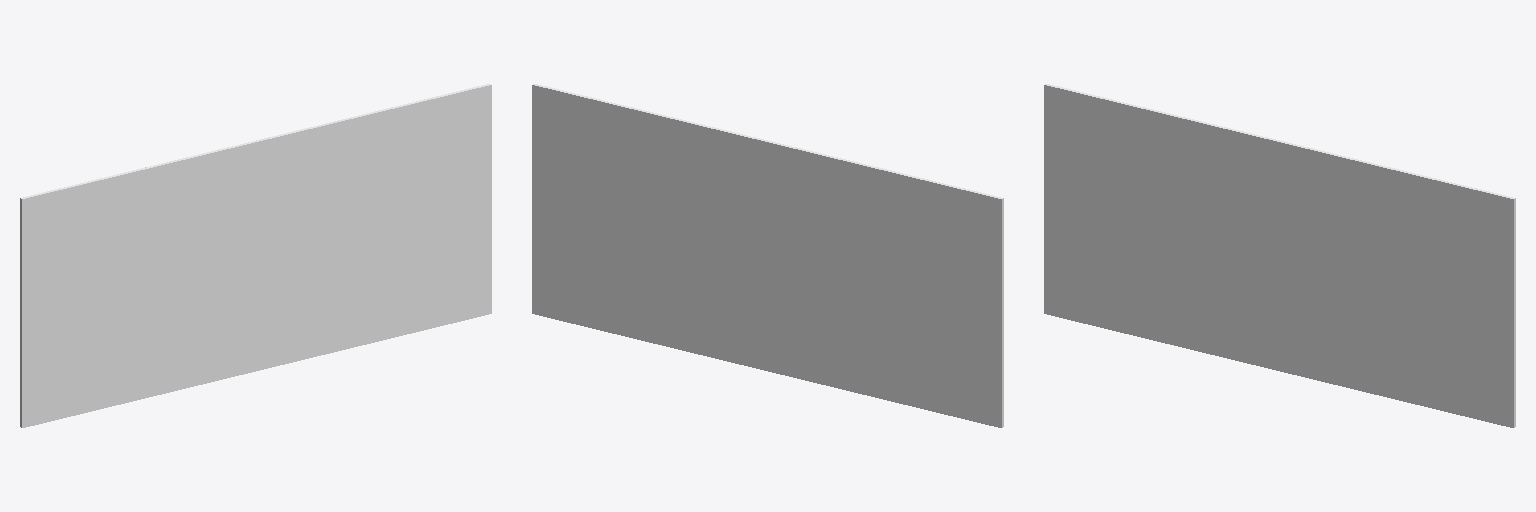
The robot description file, URDF, robot "table.urdf":
<?xml version="0.0" ?>
<robot name="table.urdf">
  <link name="baseLink">
    <contact>
      <lateral_friction value="1.0"/>
    </contact>
    <inertial>
      <origin rpy="0 0 0" xyz="0 0 0"/>
       <mass value=".0"/>
       <inertia ixx="1" ixy="0" ixz="0" iyy="1" iyz="0" izz="1"/>
    </inertial>
    <visual>
      <origin rpy="0 0 0" xyz="0 5 2"/>
      <geometry>
				<mesh filename="table_brick.obj" scale="15 0.1 7"/>
      </geometry>
       <material name="white">
        <color rgba="1 1 1 1"/>
      </material>
    </visual>
  </link>
</robot>

--- Facts derived from the render (not from the file) ---
Views: 3 orthographic renders of the robot side by side, from view 1: azimuth 30°, elevation 25°; view 2: azimuth 150°, elevation 25°; view 3: azimuth 330°, elevation 25°.
Robot: table.urdf — 1 links, 0 joints (none); root link baseLink; default pose: all joints at 0.
Links seen in each view (by area): view 1: baseLink; view 2: baseLink; view 3: baseLink.
Link boxes in pixels (box(x1,y1,x2,y2)): baseLink: box(20, 84, 491, 427); baseLink: box(532, 84, 1003, 427); baseLink: box(1044, 84, 1515, 427).
Size in the robot's own frame: 15 by 0.1 by 7 metres.
1 mesh visuals loaded from 1 distinct referenced files (1 OBJ).
